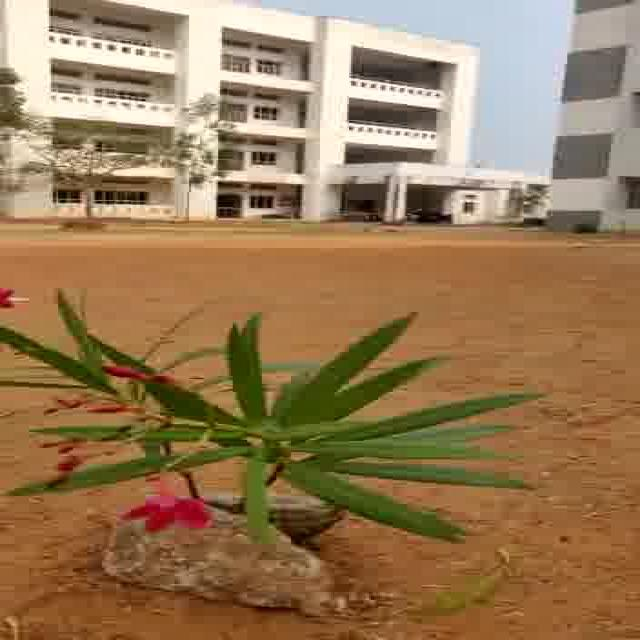Oleander: (0, 299, 598, 539)
